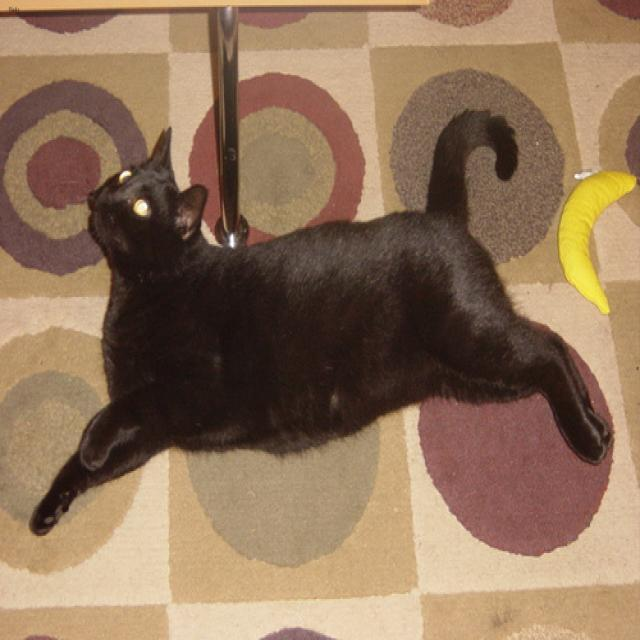Bombay: (80, 121, 207, 284)
